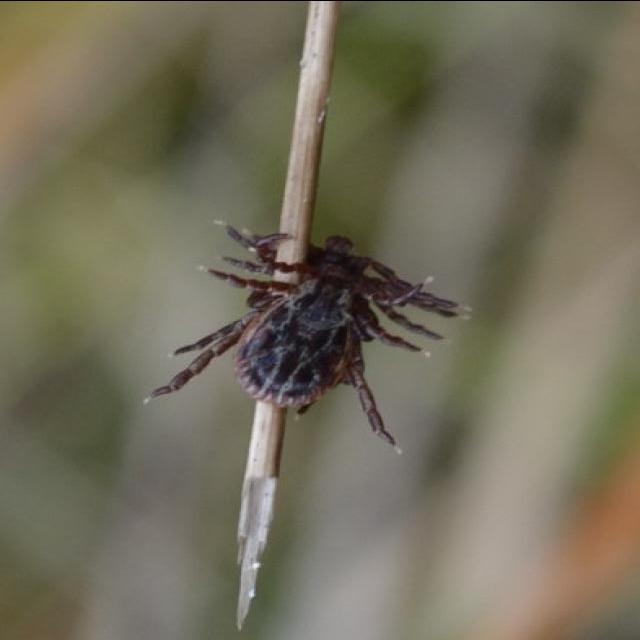Dermacentor Reticulatus-M: (151, 224, 471, 445)
